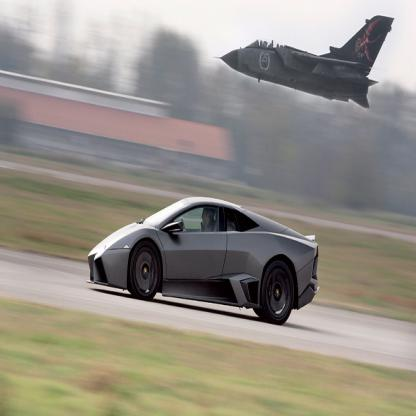Vehicle: (88, 198, 320, 328)
